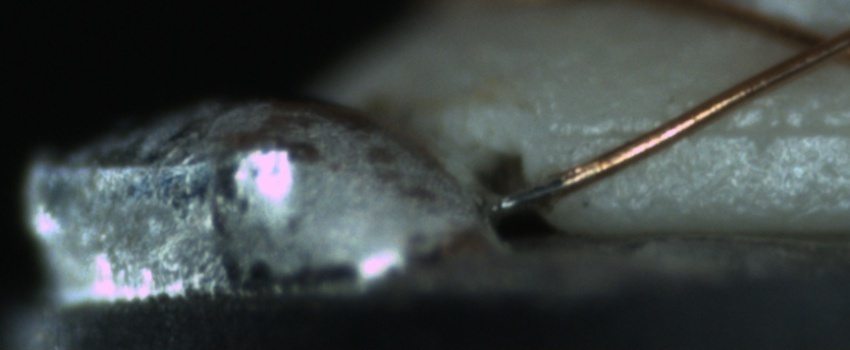CL: (780, 16, 849, 72)
DL: (555, 100, 850, 162)
TS: (492, 178, 564, 213)
TTCW: (492, 159, 584, 214)
